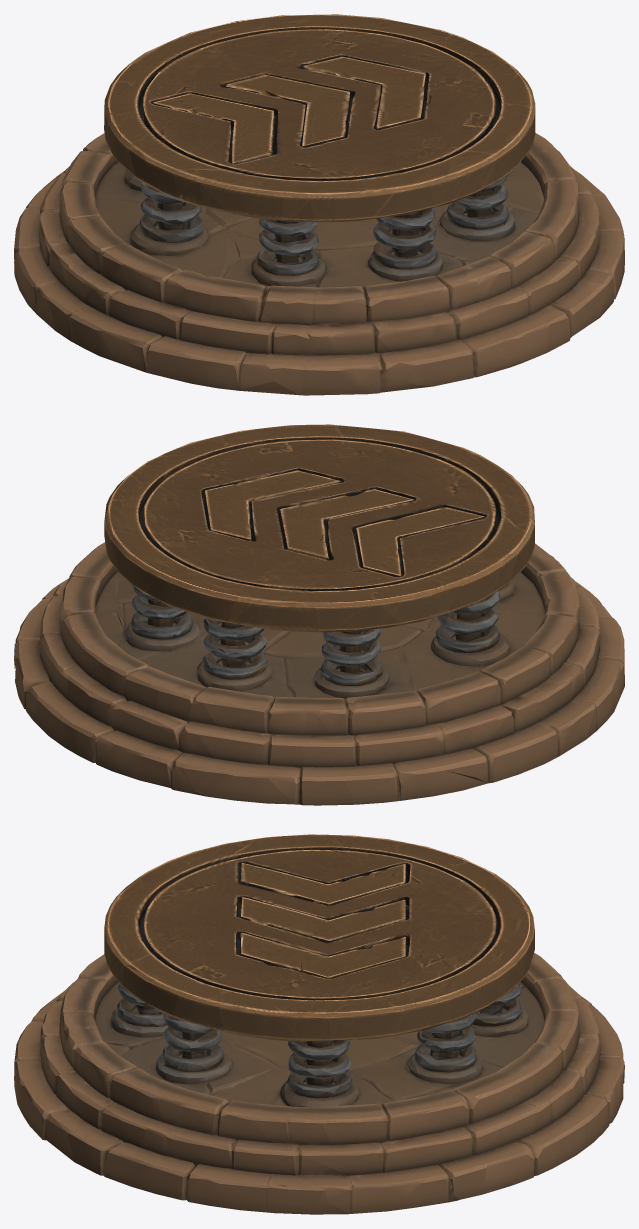
The model's file is jump_pad.glb.
3 views of the same model, one above another, from view 1: azimuth 30°, elevation 25°; view 2: azimuth 150°, elevation 25°; view 3: azimuth 270°, elevation 25° (orthographic).
Visible parts, largest first — view 1: output_unwrapped; view 2: output_unwrapped; view 3: output_unwrapped.
Part boxes in pixels (x1,y1,x2,y2): output_unwrapped: (14, 14, 624, 395); output_unwrapped: (14, 424, 624, 805); output_unwrapped: (14, 834, 624, 1214).
Bounding box in the file's own units: 1.9 × 0.5582 × 1.9.
1 material, 1 textured.
